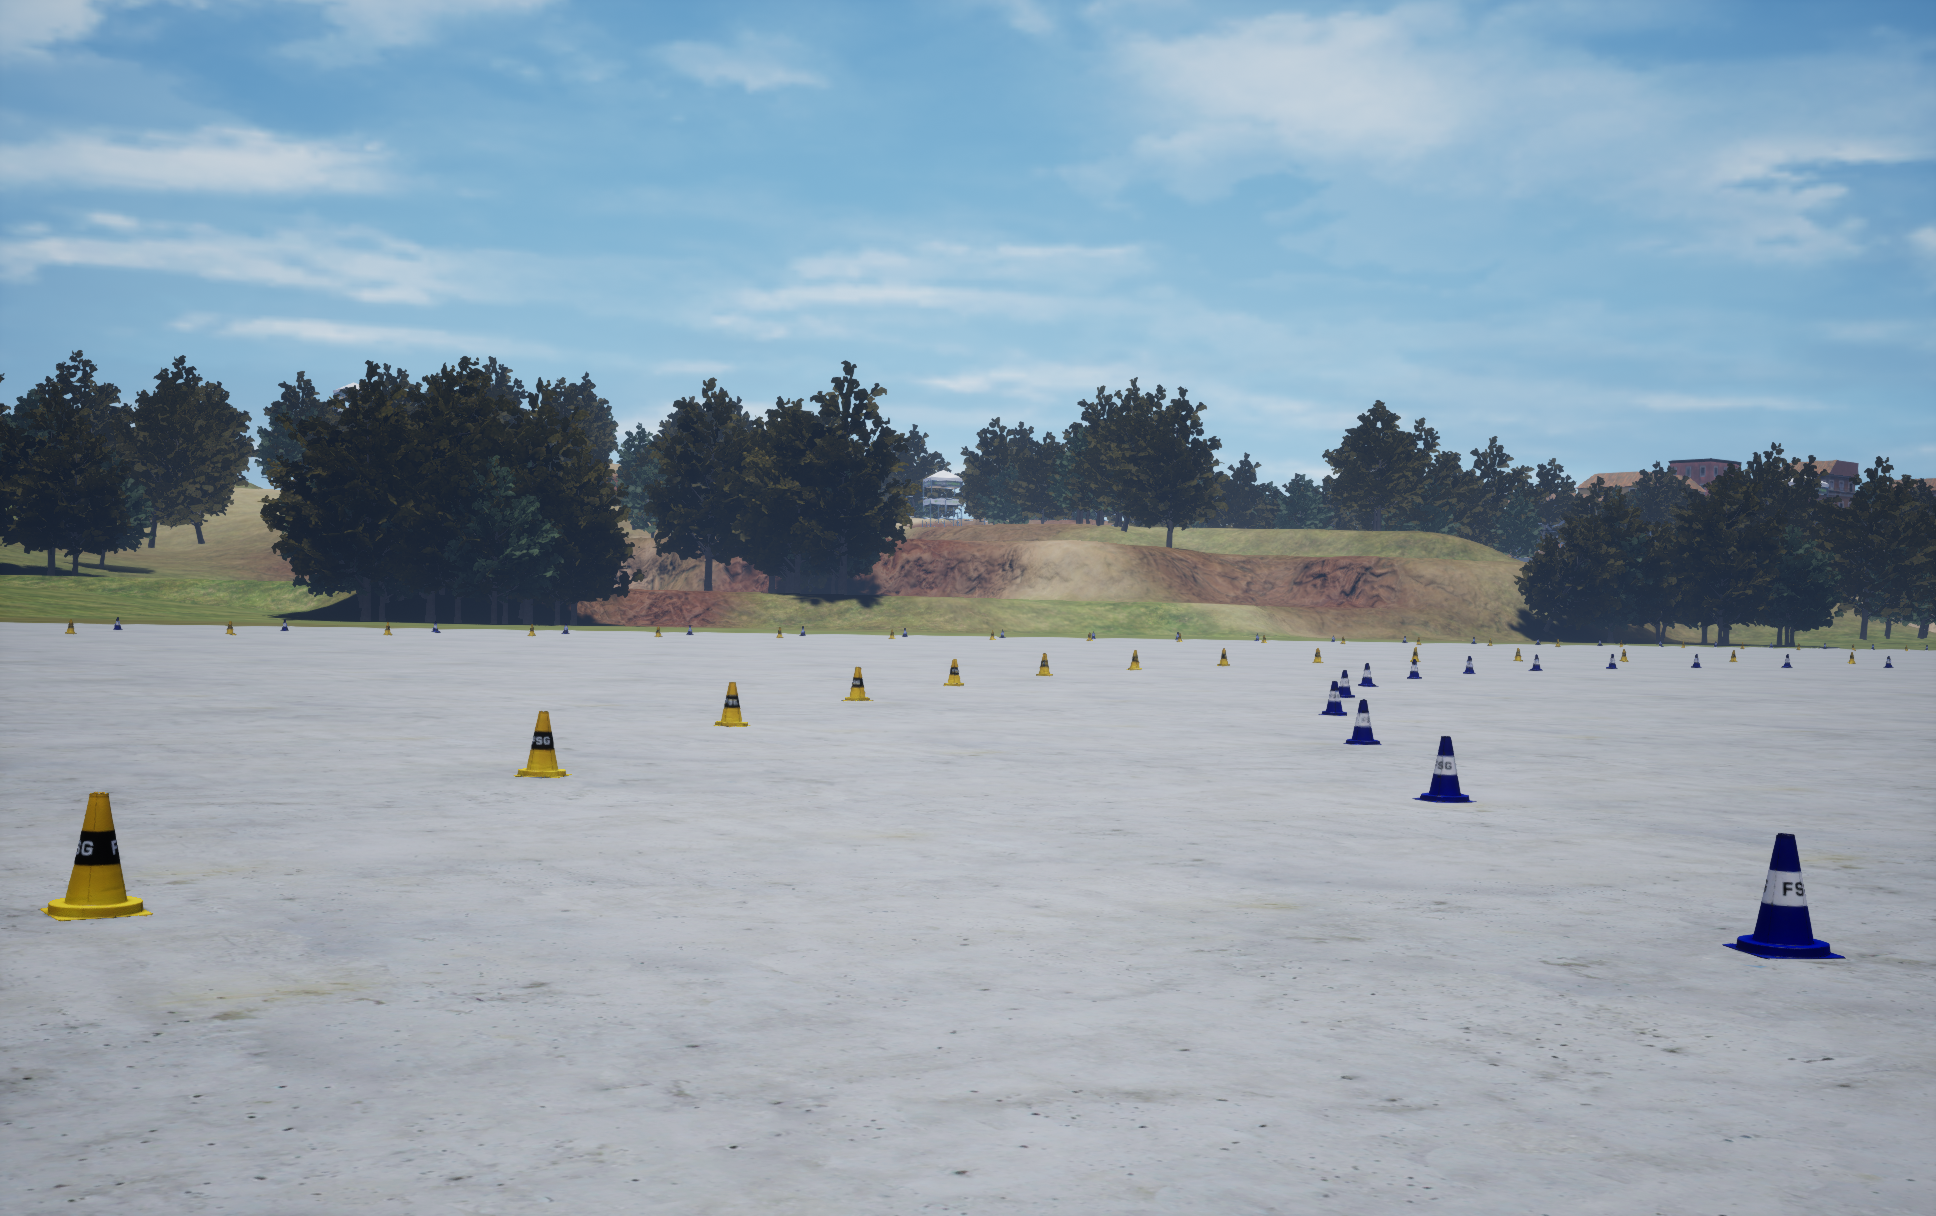blue: (39, 792, 153, 920), (513, 712, 572, 778), (713, 682, 749, 726), (841, 667, 873, 700), (943, 658, 962, 685), (1037, 653, 1052, 675), (1126, 650, 1140, 670)
yellow: (1722, 834, 1845, 958), (1412, 735, 1477, 801), (1343, 699, 1381, 744), (1318, 681, 1346, 714), (1357, 663, 1378, 686), (1339, 670, 1355, 698), (1406, 658, 1420, 678), (1463, 656, 1475, 672)
